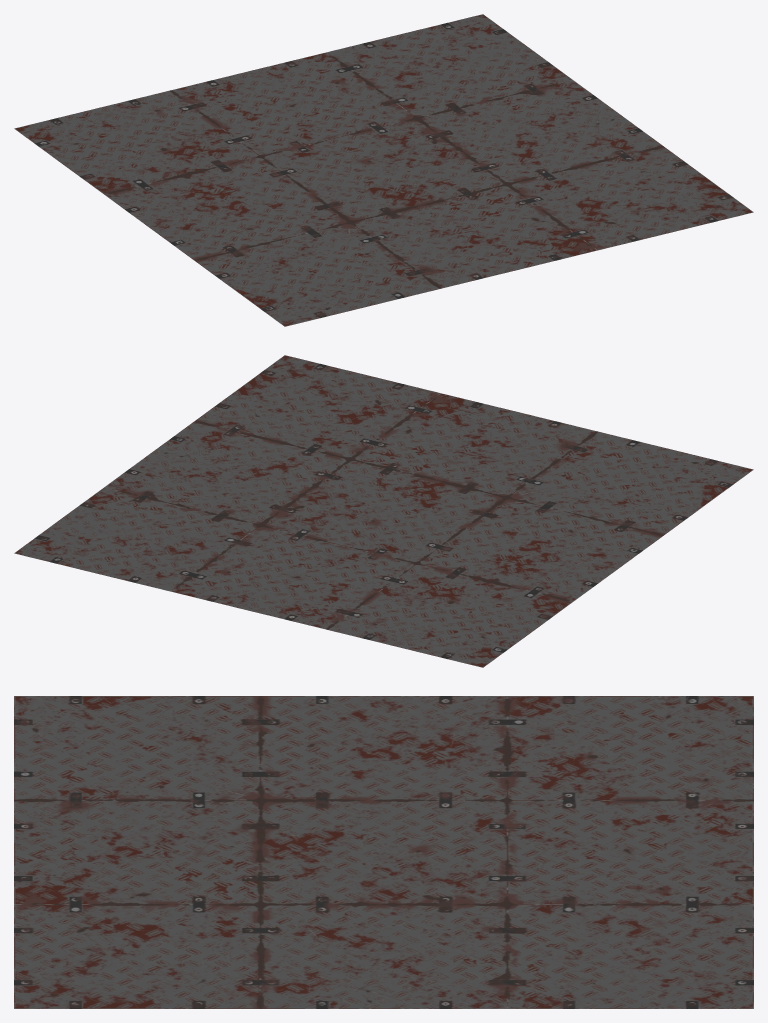
Rendered from floor-material.glb.
3 renders of one model, top to bottom at view 1: azimuth 30°, elevation 25°; view 2: azimuth 150°, elevation 25°; view 3: azimuth 270°, elevation 25°, orthographic. The views are drawn at different scales.
Visible parts, largest first — view 1: Plane001__0; view 2: Plane001__0; view 3: Plane001__0.
Part boxes in pixels (<box>): Plane001__0: <box>14,14,753,326</box>; Plane001__0: <box>14,355,753,667</box>; Plane001__0: <box>14,696,753,1008</box>.
Size of the model in its own units: 180 by 4e-14 by 180.
Materials: 1 (1 with a texture image).
